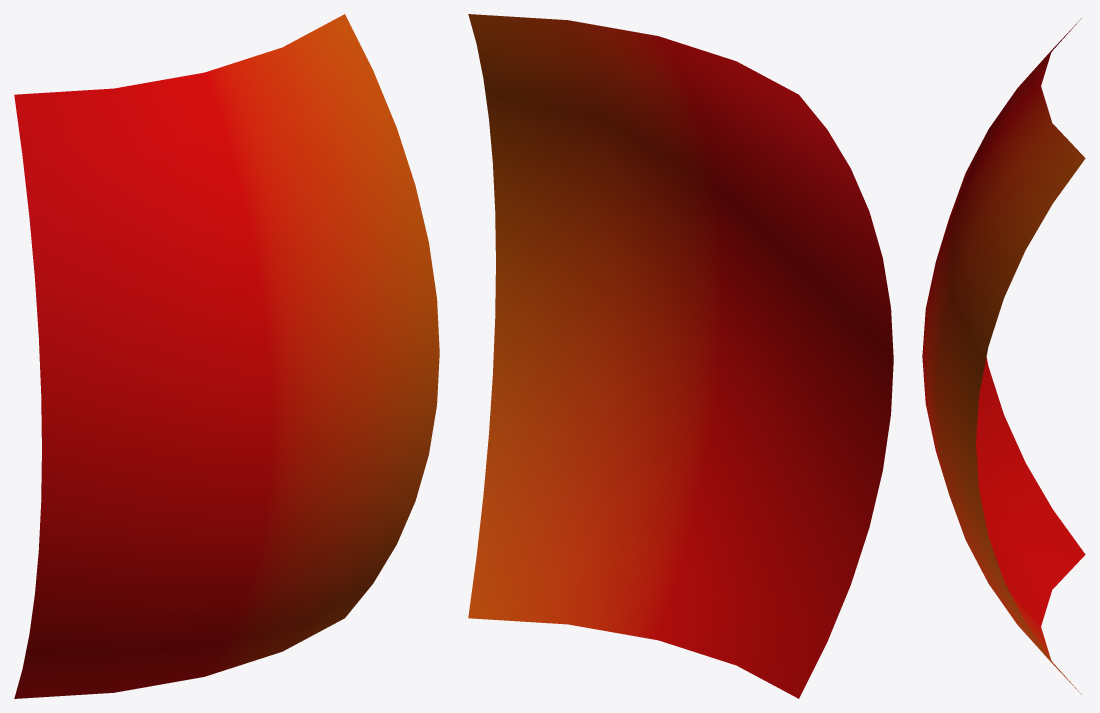
The model's file is uni_bent.fbx.
3 views of the same model, side by side, from view 1: azimuth 30°, elevation 25°; view 2: azimuth 150°, elevation 25°; view 3: azimuth 270°, elevation 25° (orthographic). The views are drawn at different scales.
Parts seen in each view (by area): view 1: uni_bent; view 2: uni_bent; view 3: uni_bent.
Part boxes in pixels (x1,y1,x2,y2): uni_bent: (14, 14, 439, 698); uni_bent: (468, 14, 893, 698); uni_bent: (922, 18, 1085, 694).
Size of the model in its own units: 9797 by 3893 by 14223.
